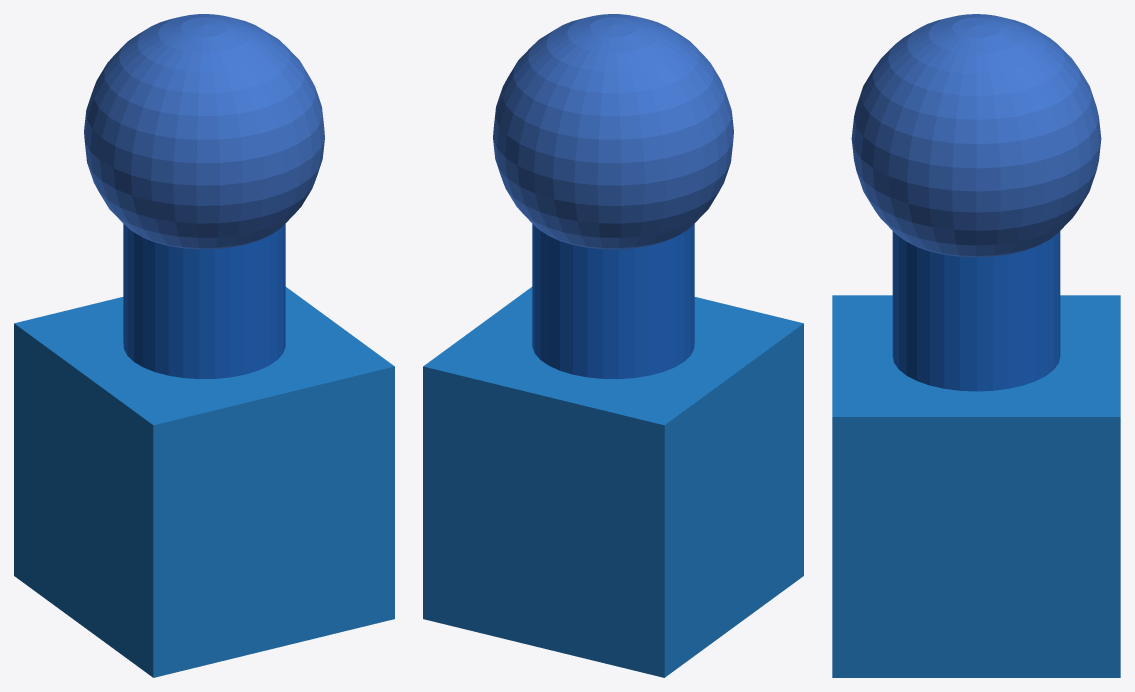
Rendered from bluebox.fbx.
3 views of the same model, side by side, from view 1: azimuth 30°, elevation 25°; view 2: azimuth 150°, elevation 25°; view 3: azimuth 270°, elevation 25° (orthographic). The views are drawn at different scales.
Visible parts, largest first — view 1: Cube, Sphere, Cylinder; view 2: Cube, Sphere, Cylinder; view 3: Cube, Sphere, Cylinder.
Part boxes in pixels (left/top/right/bottom): Cube: left=14, top=287, right=394, bottom=677; Sphere: left=84, top=14, right=324, bottom=249; Cylinder: left=123, top=224, right=285, bottom=379; Cube: left=423, top=287, right=803, bottom=677; Sphere: left=493, top=14, right=733, bottom=249; Cylinder: left=532, top=224, right=694, bottom=379; Cube: left=832, top=295, right=1120, bottom=677; Sphere: left=851, top=14, right=1101, bottom=257; Cylinder: left=892, top=231, right=1060, bottom=391.
Bounding box in the file's own units: 100 × 227 × 100.
